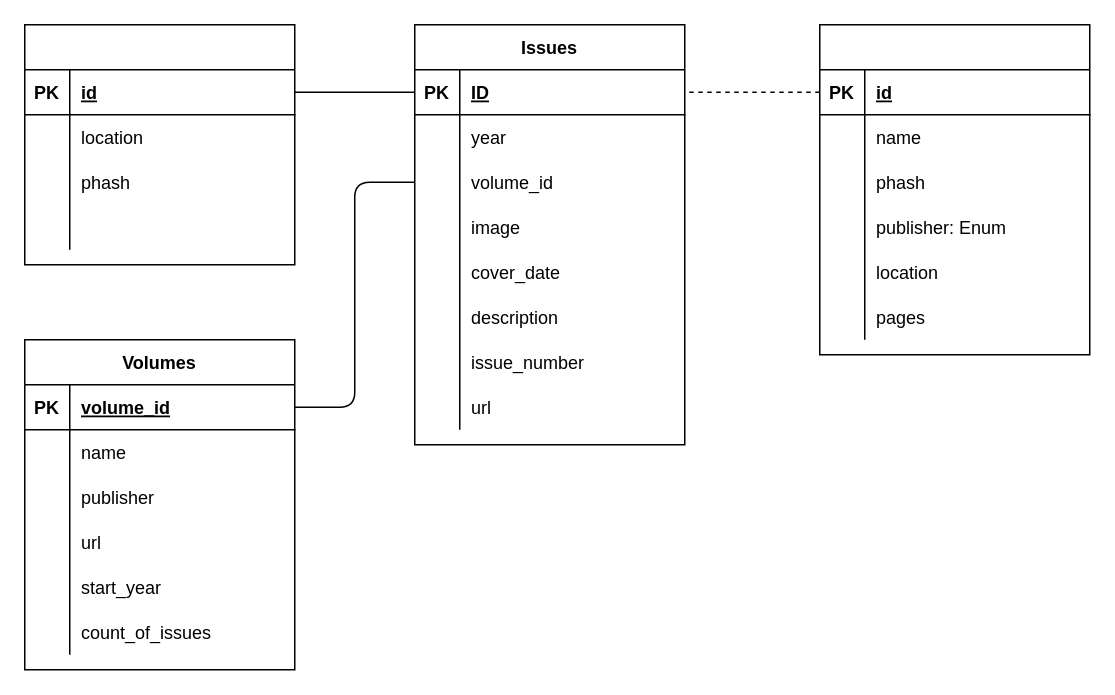
The diagram is 1115 pixels wide and 695 high, and some of its shapes have lost their labels. The shapes that lost their labels are listed below. From the top down, each one's box as (x1, y1, x2, y2) in pixels, then its label:
(23, 23, 295, 265): Covers
(818, 23, 1090, 355): Comic
